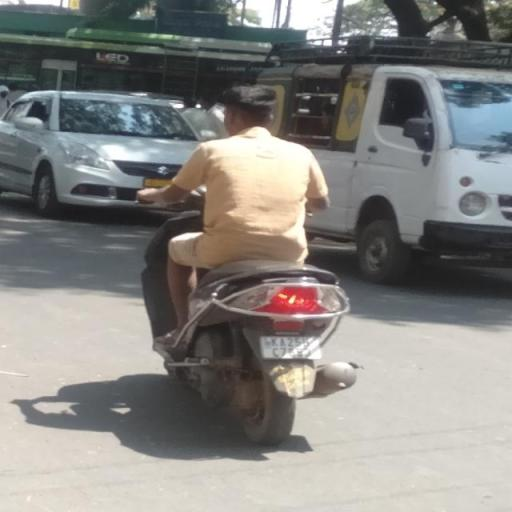bike: (131, 81, 367, 445)
numberplate: (260, 332, 322, 360)
withouthelmet: (226, 88, 276, 133)
